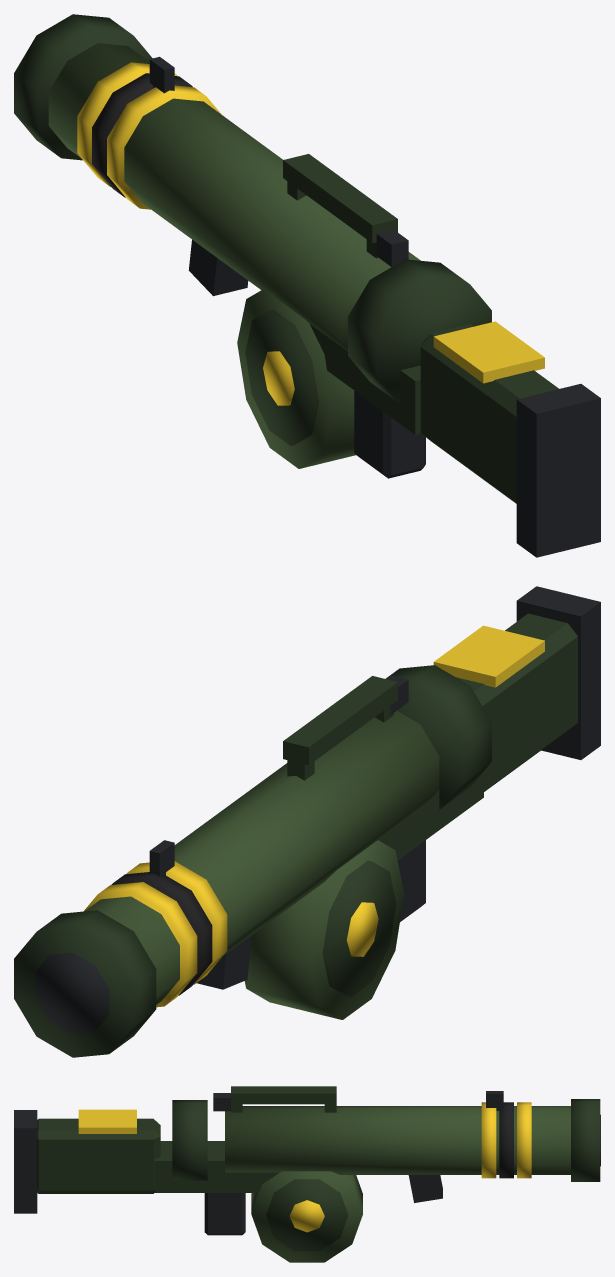
Rendered from weapon_launcher.glb.
3 renders of one model, top to bottom at view 1: azimuth 30°, elevation 25°; view 2: azimuth 150°, elevation 25°; view 3: azimuth 270°, elevation 25°, orthographic. The views are drawn at different scales.
Visible parts, largest first — view 1: Gun; view 2: Gun; view 3: Gun.
Boxes of the visible parts, box(x1,y1,x2,y2) form: Gun: box(14, 14, 600, 557); Gun: box(14, 586, 600, 1057); Gun: box(14, 1086, 600, 1262).
Bounding box in the file's own units: 0.137 × 0.3054 × 1.
